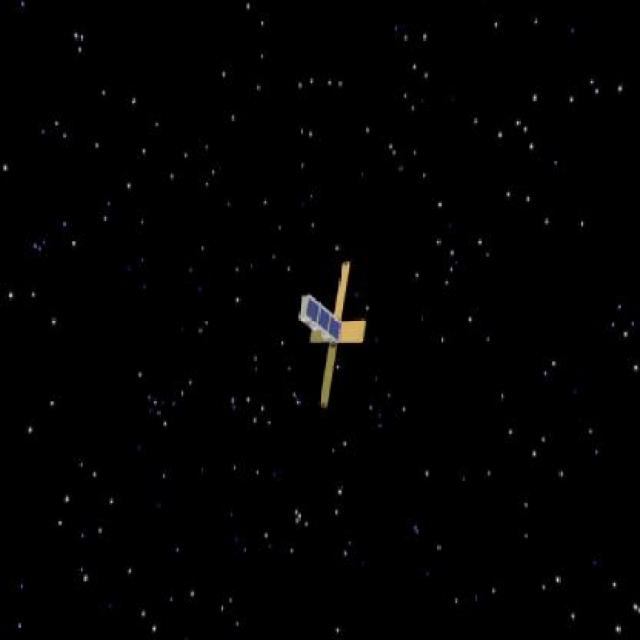medium_debris: (290, 255, 390, 408)
